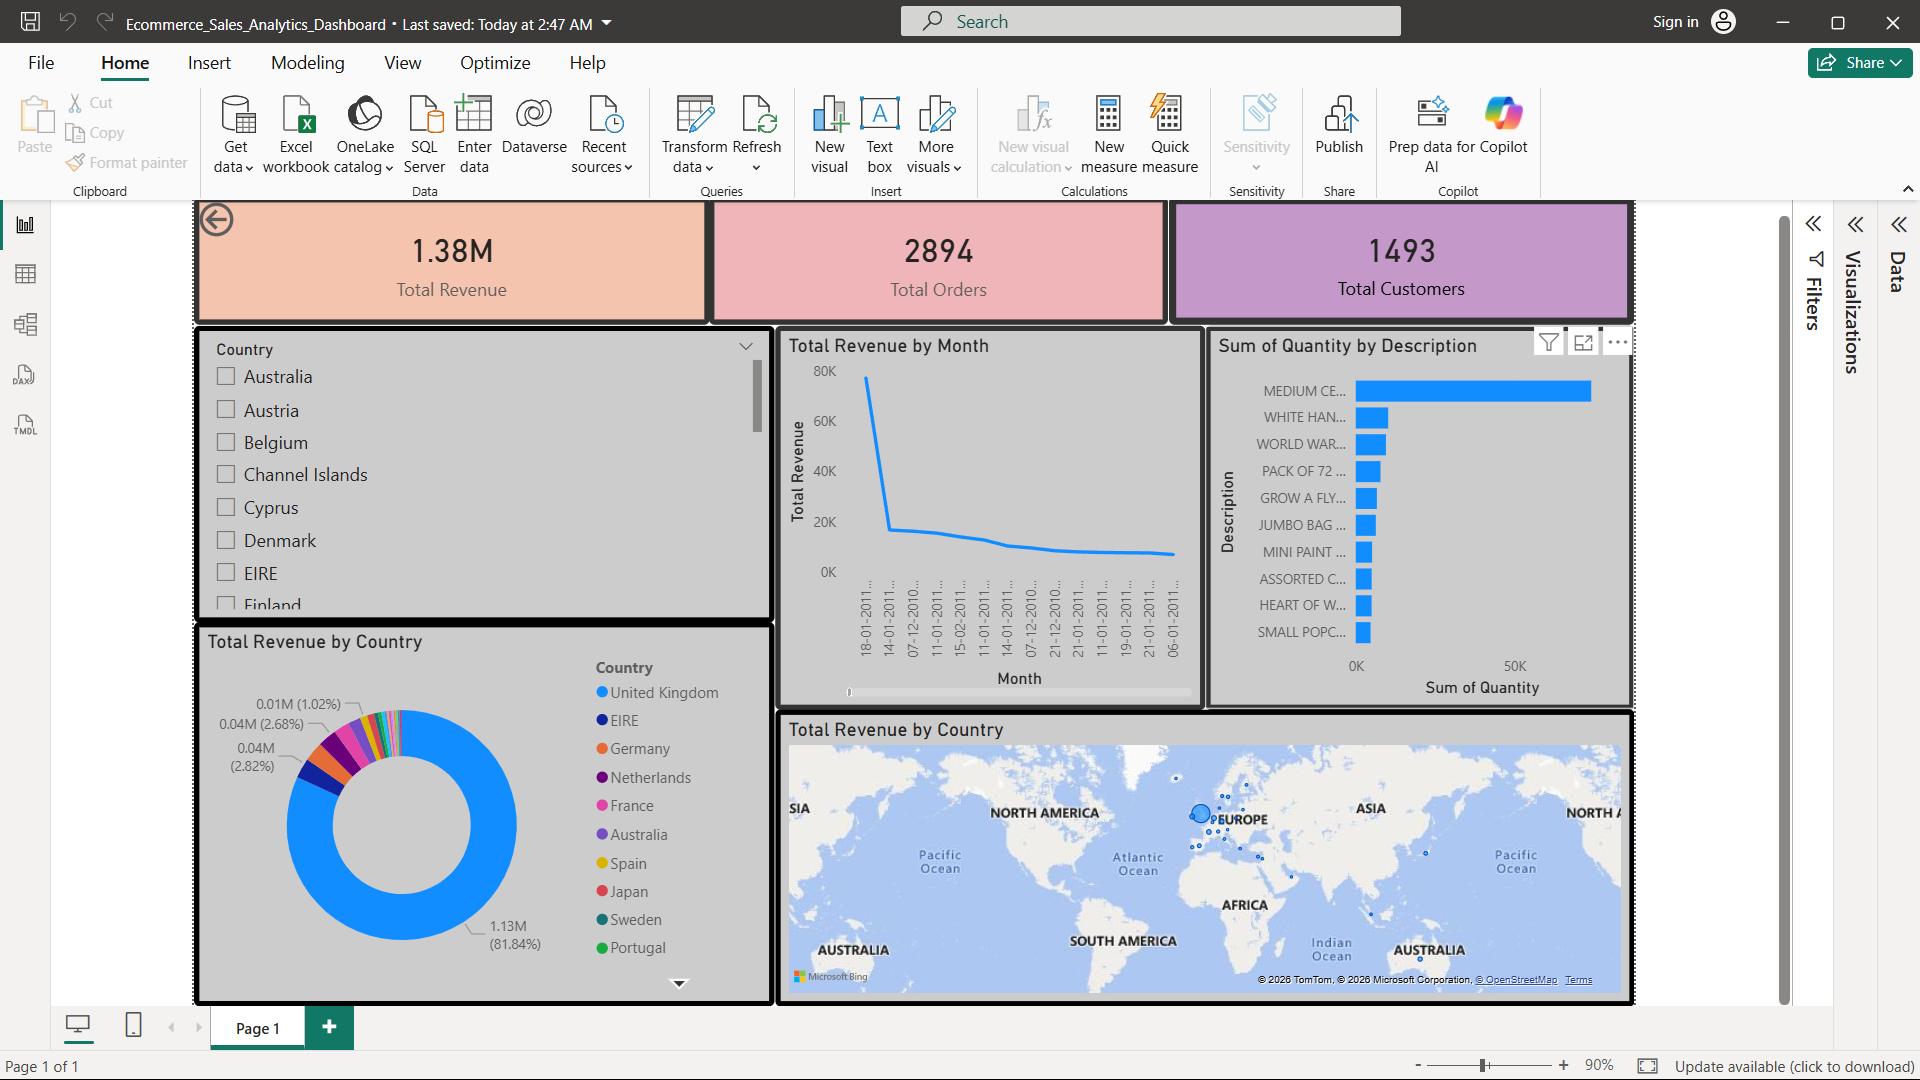

The page's visual inventory and layout, read from the dashboard file:
{"tool":"powerbi","page":{"name":"Page 1","canvas":[1280,720],"ordinal":0},"visuals":[{"type":"card","fields":{"Values":["ecommerce_db ecommerce_sales.Total Customers"]},"box":[866.3,0,414,114],"z":0},{"type":"card","fields":{"Values":["ecommerce_db ecommerce_sales.Total Orders"]},"box":[458.1,0,408.1,114],"z":1000},{"type":"card","fields":{"Values":["ecommerce_db ecommerce_sales.Total Revenue"]},"box":[0,0,458.1,114],"z":2000},{"type":"lineChart","fields":{"Category":["ecommerce_db ecommerce_sales.Month"],"Y":["ecommerce_db ecommerce_sales.Total Revenue"]},"box":[516.3,114,382.6,341.9],"z":3000},{"type":"clusteredBarChart","fields":{"Category":["ecommerce_db ecommerce_sales.Description"],"Y":["Sum(ecommerce_db ecommerce_sales.Quantity)"]},"box":[898.8,114,381.4,341.9],"z":4000},{"type":"map","fields":{"Category":["ecommerce_db ecommerce_sales.Country"],"Size":["ecommerce_db ecommerce_sales.Total Revenue"]},"box":[516.3,455.8,764,264],"z":5000},{"type":"donutChart","fields":{"Category":["ecommerce_db ecommerce_sales.Country"],"Y":["ecommerce_db ecommerce_sales.Total Revenue"]},"box":[0,377.9,516.3,341.9],"z":5001},{"type":"slicer","fields":{"Values":["ecommerce_db ecommerce_sales.Country"]},"box":[0,114,516.3,264],"z":5002},{"type":"actionButton","box":[0,0,100,40],"z":5003}]}

Visuals, with their boxes on the page's 1280x720 design canvas (x1, y1, x2, y2). These are canvas units, not pixel positions in the 1920x1080 screenshot, which may show the page scaled, cropped or inside an application window:
card - ecommerce_db ecommerce_sales.Total Customers: {"x1": 866, "y1": 0, "x2": 1280, "y2": 114}
card - ecommerce_db ecommerce_sales.Total Orders: {"x1": 458, "y1": 0, "x2": 866, "y2": 114}
card - ecommerce_db ecommerce_sales.Total Revenue: {"x1": 0, "y1": 0, "x2": 458, "y2": 114}
lineChart - ecommerce_db ecommerce_sales.Month x ecommerce_db ecommerce_sales.Total Revenue: {"x1": 516, "y1": 114, "x2": 899, "y2": 456}
clusteredBarChart - ecommerce_db ecommerce_sales.Description x Sum(ecommerce_db ecommerce_sales.Quantity): {"x1": 899, "y1": 114, "x2": 1280, "y2": 456}
map - ecommerce_db ecommerce_sales.Country x ecommerce_db ecommerce_sales.Total Revenue: {"x1": 516, "y1": 456, "x2": 1280, "y2": 720}
donutChart - ecommerce_db ecommerce_sales.Country x ecommerce_db ecommerce_sales.Total Revenue: {"x1": 0, "y1": 378, "x2": 516, "y2": 720}
slicer - ecommerce_db ecommerce_sales.Country: {"x1": 0, "y1": 114, "x2": 516, "y2": 378}
actionButton: {"x1": 0, "y1": 0, "x2": 100, "y2": 40}
